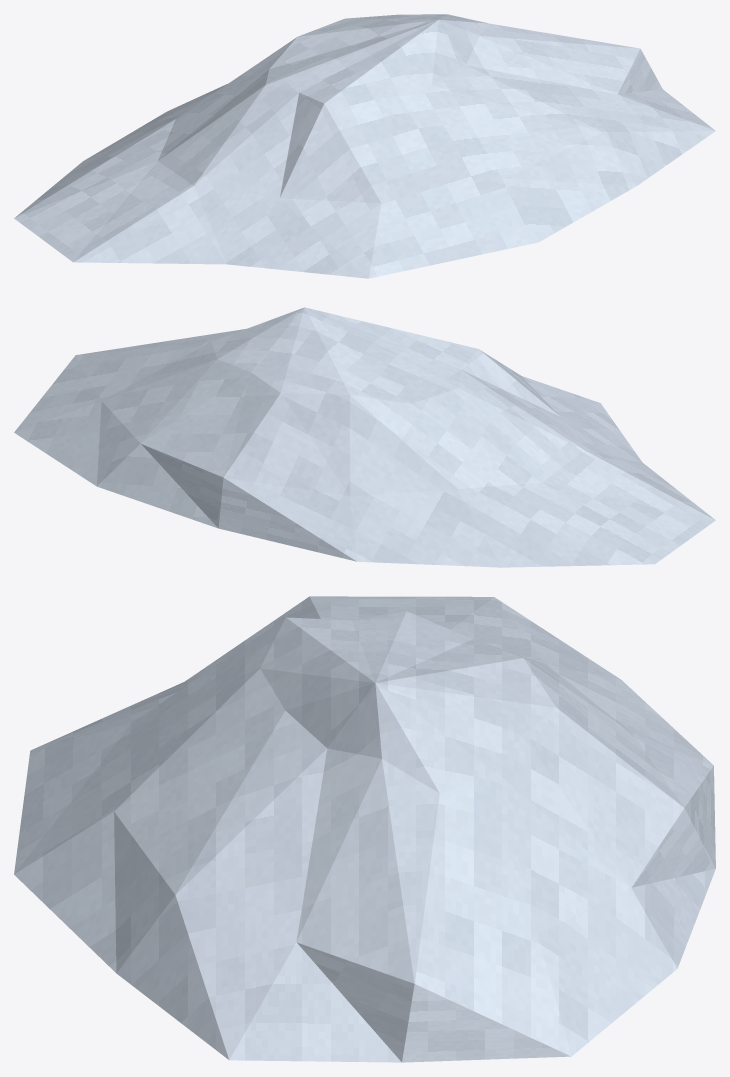
The model's file is drift_large.glb.
3 views of the same model, one above another, from view 1: azimuth 30°, elevation 25°; view 2: azimuth 150°, elevation 25°; view 3: azimuth 270°, elevation 25° (orthographic). The views are drawn at different scales.
Parts seen in each view (by area): view 1: drift_large; view 2: drift_large; view 3: drift_large.
Boxes of the visible parts, x1=… form: drift_large: x1=14, y1=14, x2=715, y2=278; drift_large: x1=14, y1=307, x2=715, y2=567; drift_large: x1=14, y1=596, x2=715, y2=1062.
Size of the model in its own units: 4.4 by 0.9 by 2.8.
1 material, 1 textured.
